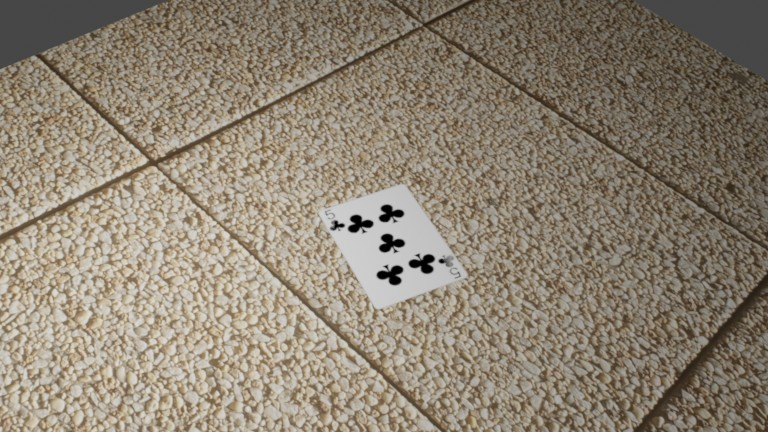5_of_clubs: (174, 101, 187, 112), (128, 83, 139, 94)
